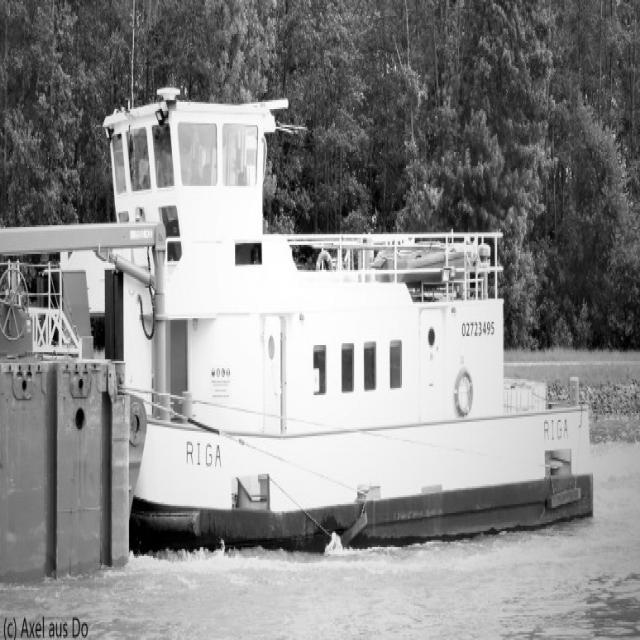tugboat: (72, 80, 601, 570)
